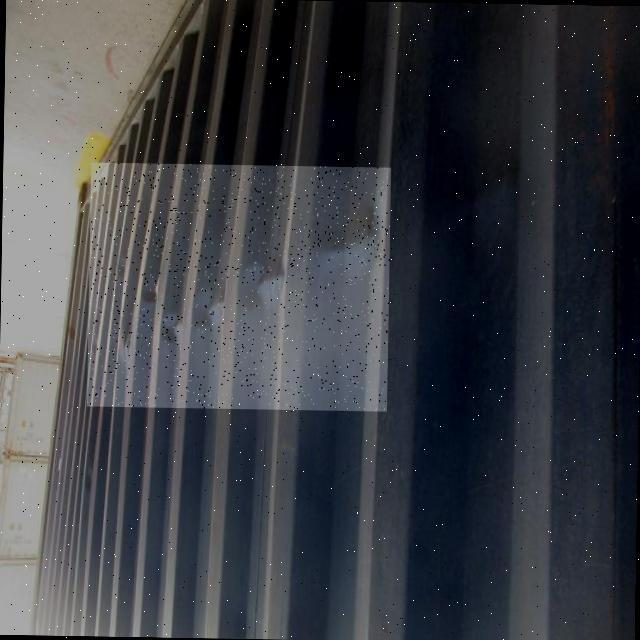Dent: (87, 162, 391, 411)
